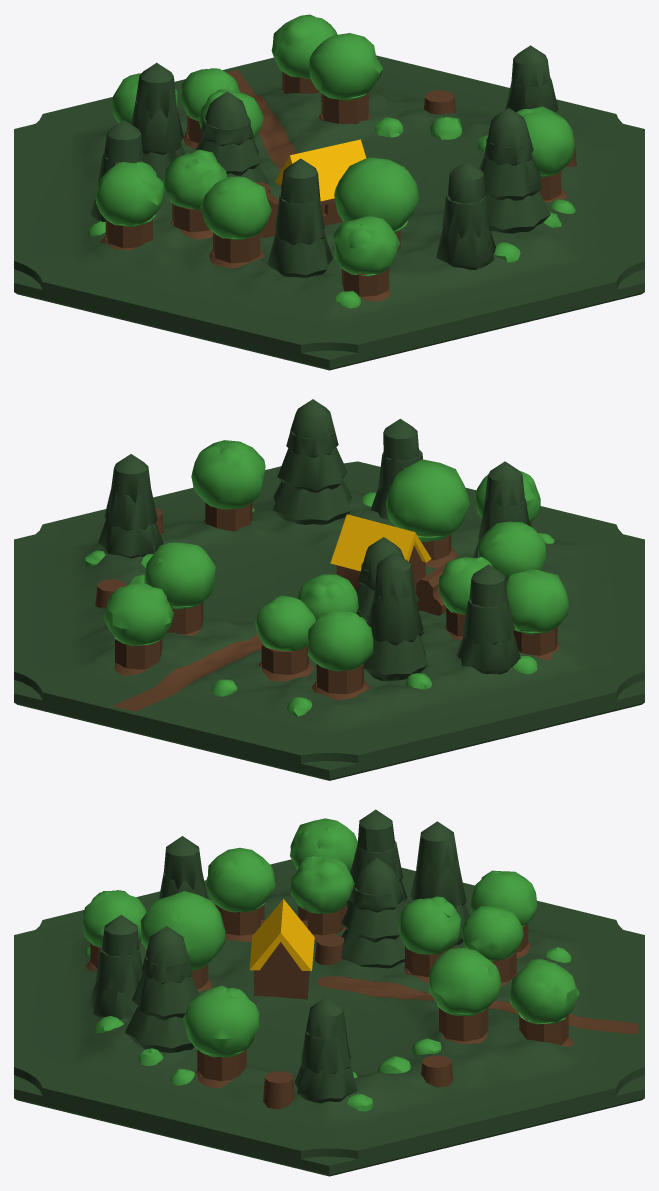
The model's file is wald_5.glb.
3 renders of one model, top to bottom at view 1: azimuth 30°, elevation 25°; view 2: azimuth 150°, elevation 25°; view 3: azimuth 270°, elevation 25°, orthographic.
Visible parts, largest first — view 1: wald_5; view 2: wald_5; view 3: wald_5.
Part boxes in pixels (box(x1,y1,x2,y2)): wald_5: box(14, 14, 644, 370); wald_5: box(14, 399, 644, 780); wald_5: box(14, 809, 644, 1176).
Bounding box in the file's own units: 65.24 × 14.44 × 56.5.
